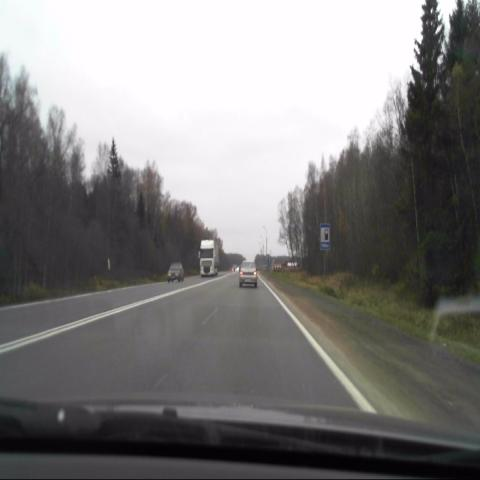7_3: (320, 222, 330, 250)
